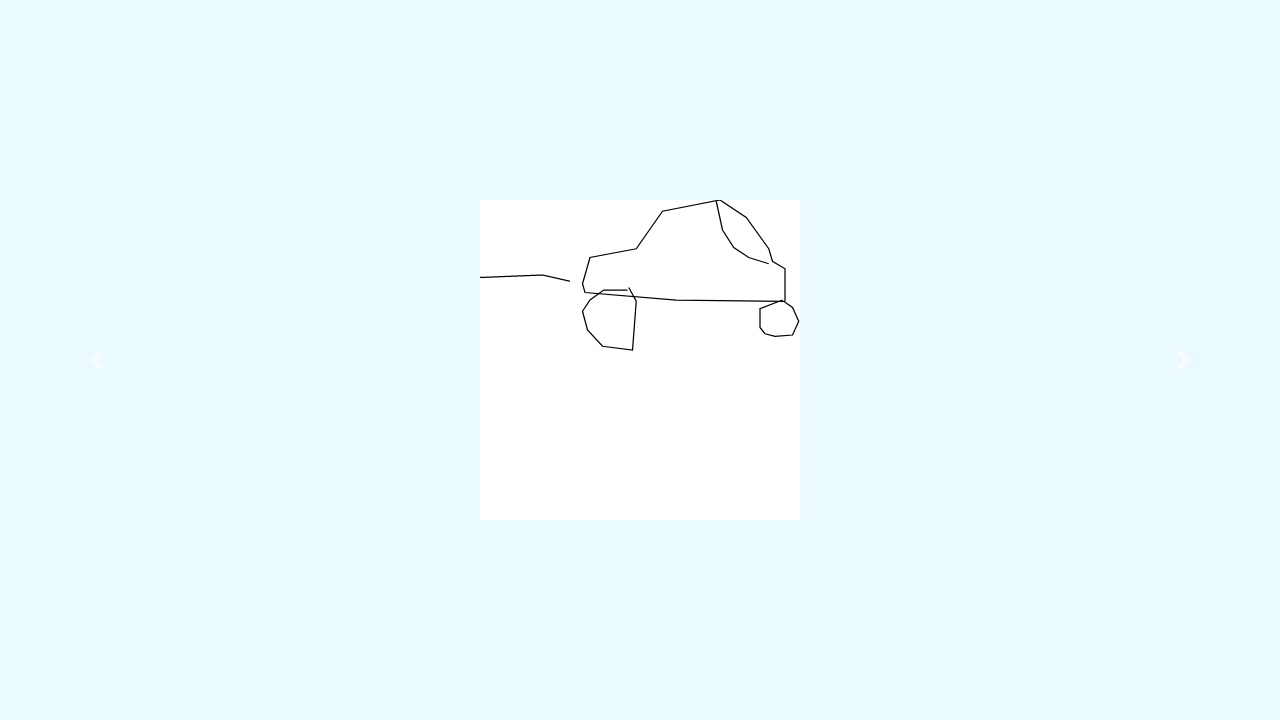car: (479, 197, 805, 357)
